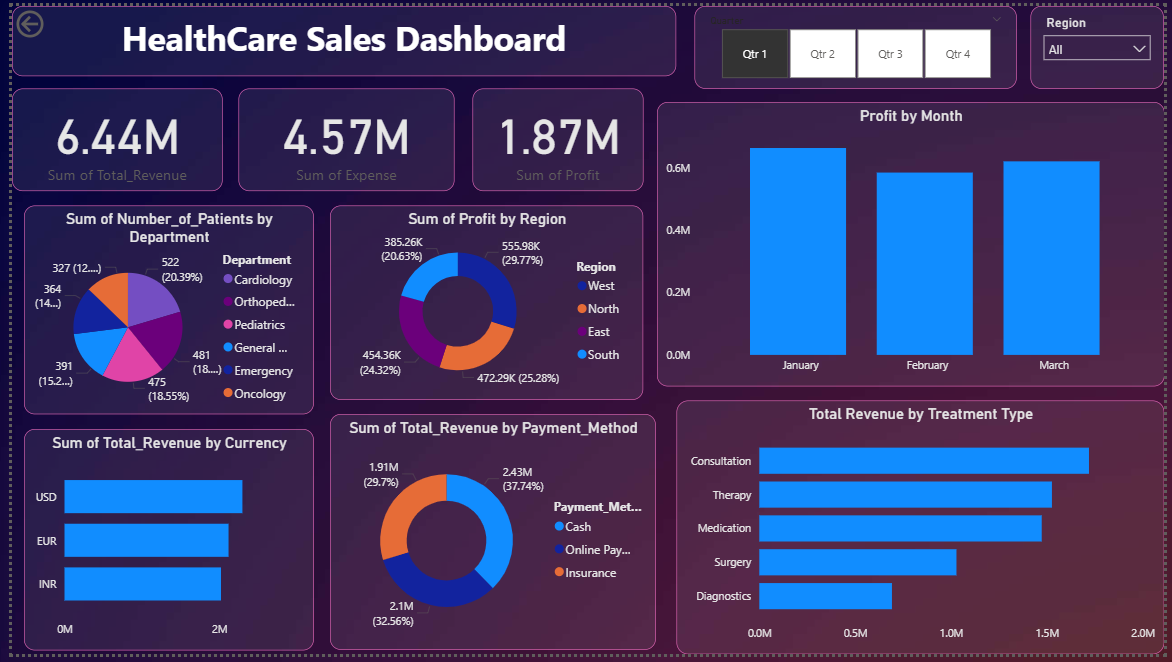

The dashboard page shown, as its layout file describes it:
{"tool":"powerbi","page":{"name":"Page 1","canvas":[1280,720],"ordinal":0},"visuals":[{"type":"columnChart","title":"Profit by Month","fields":{"Category":["Sheet1.Date.Variation.Date Hierarchy.Month"],"Y":["Sum(Sheet1.Profit)"]},"box":[716,106,564,316],"z":0},{"type":"barChart","title":"Total Revenue by Treatment Type","fields":{"Y":["Sum(Sheet1.Total_Revenue)"],"Category":["Sheet1.Treatment_Type"]},"box":[738,438,542,282],"z":1000},{"type":"pieChart","fields":{"Category":["Sheet1.Department"],"Y":["Sum(Sheet1.Number_of_Patients)"]},"box":[14,222,322,232],"z":2000},{"type":"donutChart","fields":{"Category":["Sheet1.Payment_Method"],"Y":["Sum(Sheet1.Total_Revenue)"]},"box":[354,454,362,262],"z":3000},{"type":"donutChart","fields":{"Category":["Sheet1.Region"],"Y":["Sum(Sheet1.Profit)"]},"box":[354,222,348,216],"z":4000},{"type":"barChart","fields":{"Category":["Sheet1.Currency"],"Y":["Sum(Sheet1.Total_Revenue)"]},"box":[14,470,322,246],"z":5000},{"type":"textbox","box":[0,0,738,78],"z":5001},{"type":"card","fields":{"Values":["Sum(Sheet1.Total_Revenue)"]},"box":[0,92,234,114],"z":5002},{"type":"card","fields":{"Values":["Sum(Sheet1.Profit)"]},"box":[512,92,190,114],"z":5003},{"type":"card","fields":{"Values":["Sum(Sheet1.Expense)"]},"box":[252,92,240,114],"z":5004},{"type":"actionButton","box":[0,0,100,40],"z":5005},{"type":"slicer","fields":{"Values":["Sheet1.Date.Variation.Date Hierarchy.Quarter"]},"box":[758,0,358,92],"z":5006},{"type":"slicer","fields":{"Values":["Sheet1.Region"]},"box":[1132,0,148,92],"z":5007}]}

Visuals, with their boxes in screenshot pixels (x1, y1, x2, y2), scaled from the page's 1280x720 canvas onto the 1172x662 screenshot:
"Profit by Month" columnChart: {"left": 656, "top": 97, "right": 1171, "bottom": 388}
"Total Revenue by Treatment Type" barChart: {"left": 676, "top": 403, "right": 1171, "bottom": 661}
pieChart - Sheet1.Department x Sum(Sheet1.Number_of_Patients): {"left": 13, "top": 204, "right": 308, "bottom": 417}
donutChart - Sheet1.Payment_Method x Sum(Sheet1.Total_Revenue): {"left": 324, "top": 417, "right": 656, "bottom": 658}
donutChart - Sheet1.Region x Sum(Sheet1.Profit): {"left": 324, "top": 204, "right": 643, "bottom": 403}
barChart - Sheet1.Currency x Sum(Sheet1.Total_Revenue): {"left": 13, "top": 432, "right": 308, "bottom": 658}
textbox: {"left": 0, "top": 0, "right": 676, "bottom": 72}
card - Sum(Sheet1.Total_Revenue): {"left": 0, "top": 85, "right": 214, "bottom": 189}
card - Sum(Sheet1.Profit): {"left": 469, "top": 85, "right": 643, "bottom": 189}
card - Sum(Sheet1.Expense): {"left": 231, "top": 85, "right": 450, "bottom": 189}
actionButton: {"left": 0, "top": 0, "right": 92, "bottom": 37}
slicer - Sheet1.Date.Variation.Date Hierarchy.Quarter: {"left": 694, "top": 0, "right": 1022, "bottom": 85}
slicer - Sheet1.Region: {"left": 1036, "top": 0, "right": 1171, "bottom": 85}
